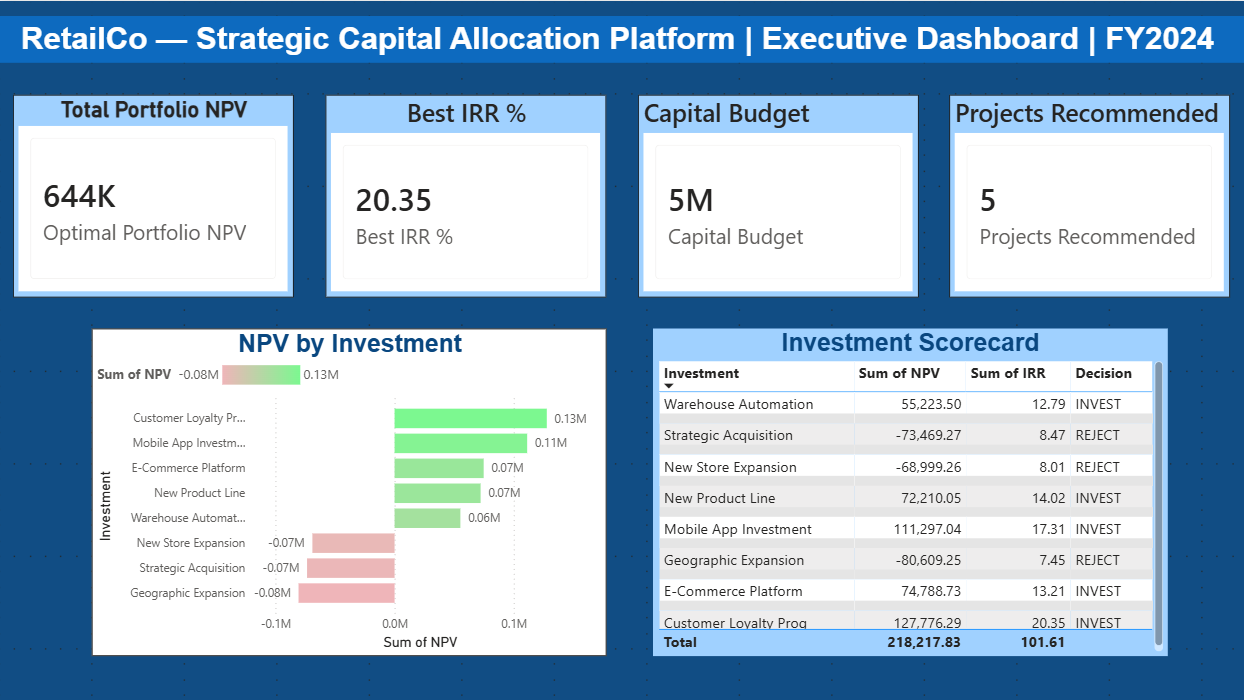

Layout of this report page (visuals, bound fields, positions):
{"tool":"powerbi","page":{"name":"Executive Summary","canvas":[1280,720],"ordinal":0},"visuals":[{"type":"textbox","box":[0,16,1280,48],"z":0},{"type":"cardVisual","title":"Total Portfolio NPV","fields":{"Data":["Advanced_KPIs.Portfolio NPV Total"]},"box":[16,96,288,208],"z":1000},{"type":"cardVisual","title":"Best IRR %","fields":{"Data":["Max(investment_results.IRR)"]},"box":[336,96,288,208],"z":2000},{"type":"cardVisual","title":"Capital Budget","fields":{"Data":["Advanced_KPIs.Capital Budget"]},"box":[656,96,288,208],"z":3000},{"type":"cardVisual","title":"Projects Recommended","fields":{"Data":["Advanced_KPIs.Projects Recommended"]},"box":[976,96,288,208],"z":4000},{"type":"clusteredBarChart","title":"NPV by Investment","fields":{"Category":["investment_results.Investment"],"Y":["Sum(investment_results.NPV)"]},"box":[96,336,528,336],"z":5000},{"type":"tableEx","title":"Investment Scorecard","fields":{"Values":["investment_results.Investment","Sum(investment_results.NPV)","Sum(investment_results.IRR)","investment_results.Decision"]},"box":[672,336,528,336],"z":6000}]}

Visuals, with their boxes in screenshot pixels (x1, y1, x2, y2), scaled from the page's 1280x720 canvas onto the 1244x700 screenshot:
textbox: [x1=0, y1=16, x2=1243, y2=62]
"Total Portfolio NPV" cardVisual: [x1=16, y1=93, x2=295, y2=296]
"Best IRR %" cardVisual: [x1=327, y1=93, x2=606, y2=296]
"Capital Budget" cardVisual: [x1=638, y1=93, x2=917, y2=296]
"Projects Recommended" cardVisual: [x1=949, y1=93, x2=1228, y2=296]
"NPV by Investment" clusteredBarChart: [x1=93, y1=327, x2=606, y2=653]
"Investment Scorecard" tableEx: [x1=653, y1=327, x2=1166, y2=653]
